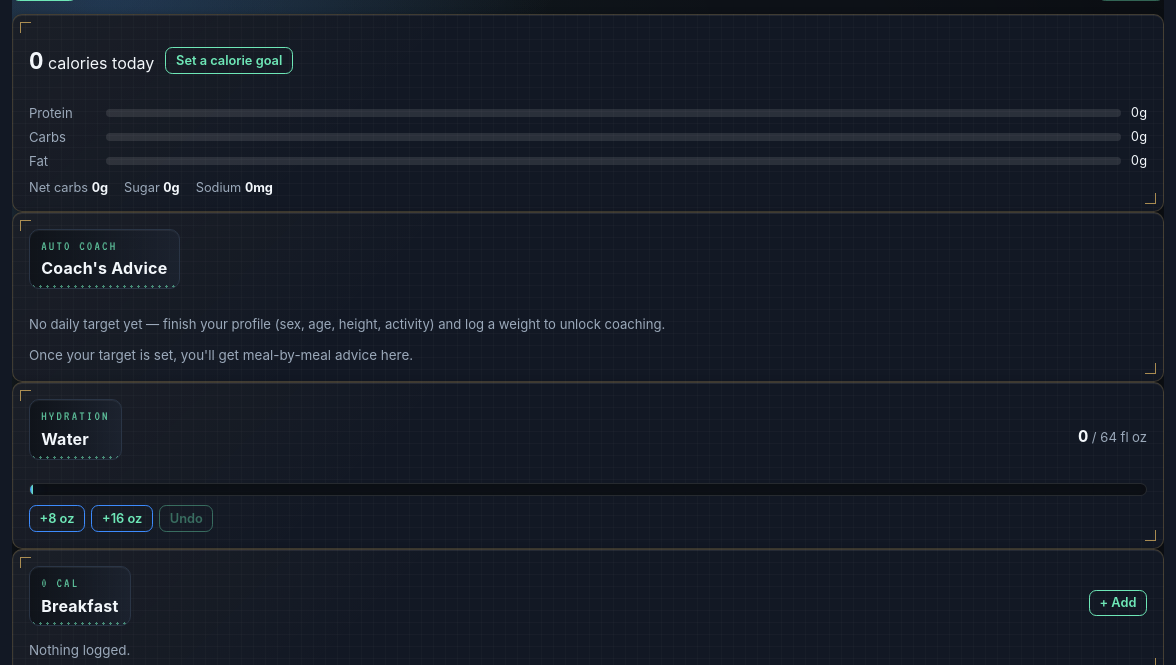
Test: NutritionDiary › logs a food to a meal and updates totals
The image size is (1176, 665).
Expected: the heading "Breakfast" is shown, [41, 596, 118, 616]
Click the button with aria-label "Add food to Breakfast": click(1118, 603) [1089, 590, 1147, 616]
(page scrolled)
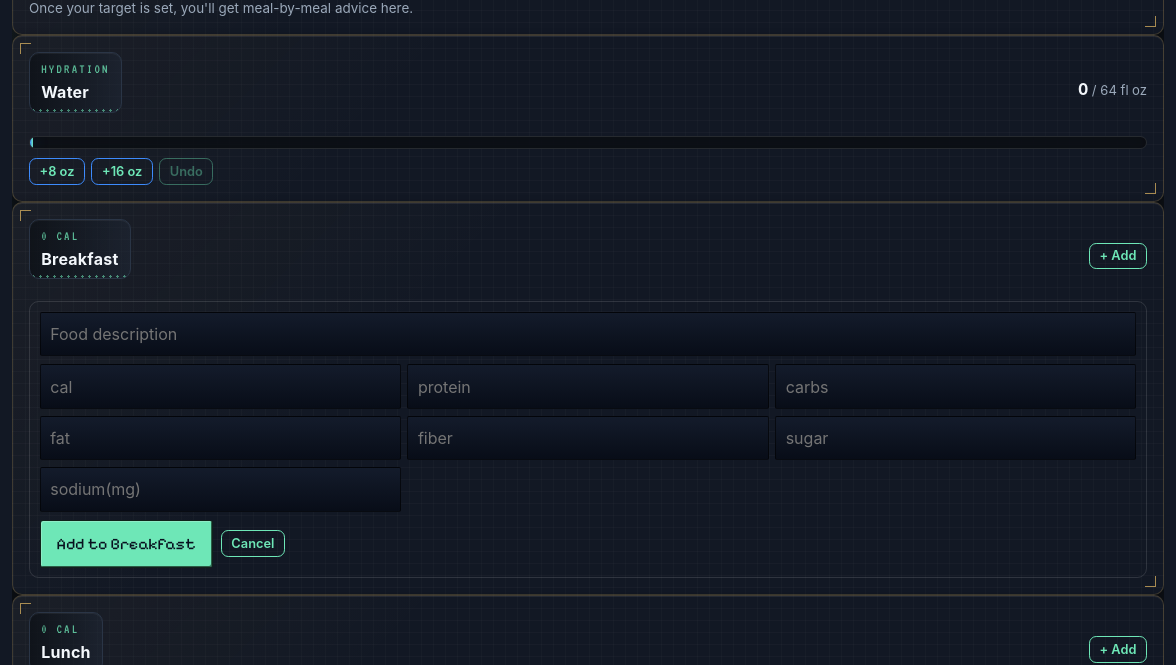
In the field with placeholder "Food description": (588, 334) [40, 312, 1136, 356], type "Oatmeal"
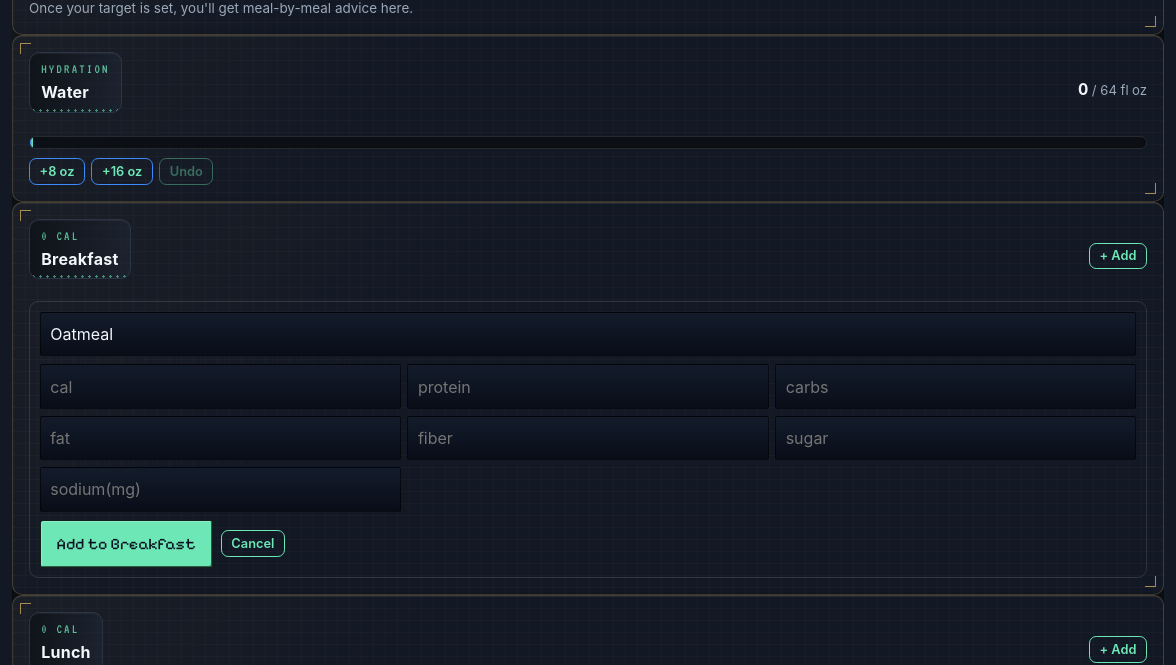
In the number field with placeholder "cal": (220, 387) [40, 364, 401, 409], type "350"
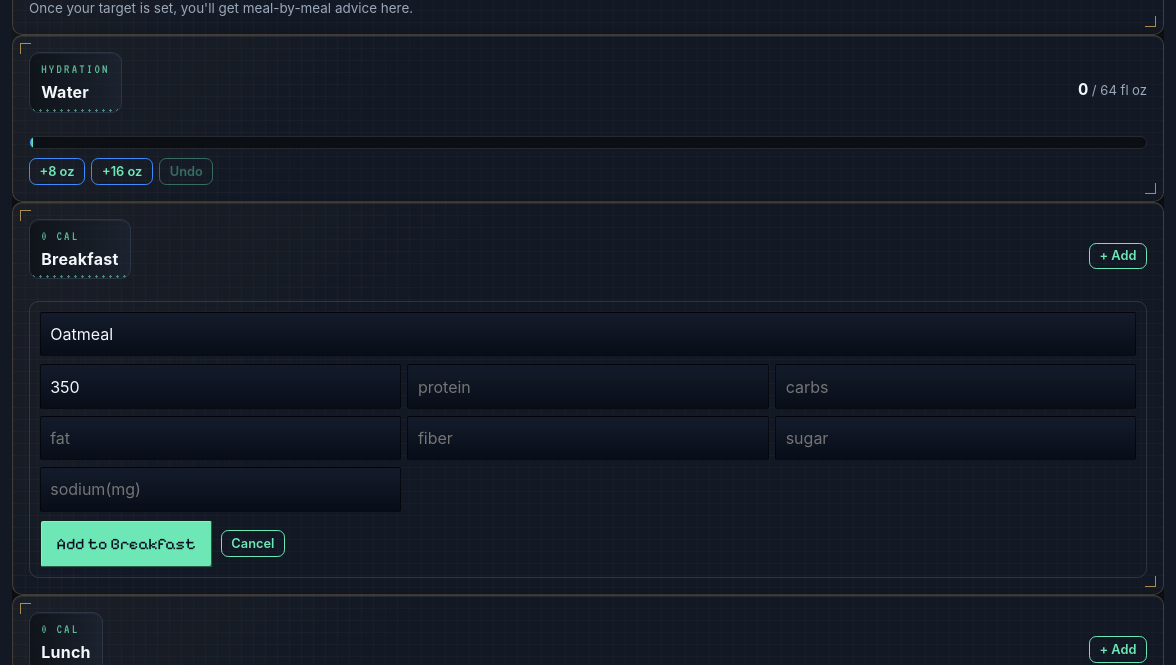
Click the button "Add to Breakfast": click(126, 544) [40, 520, 213, 568]
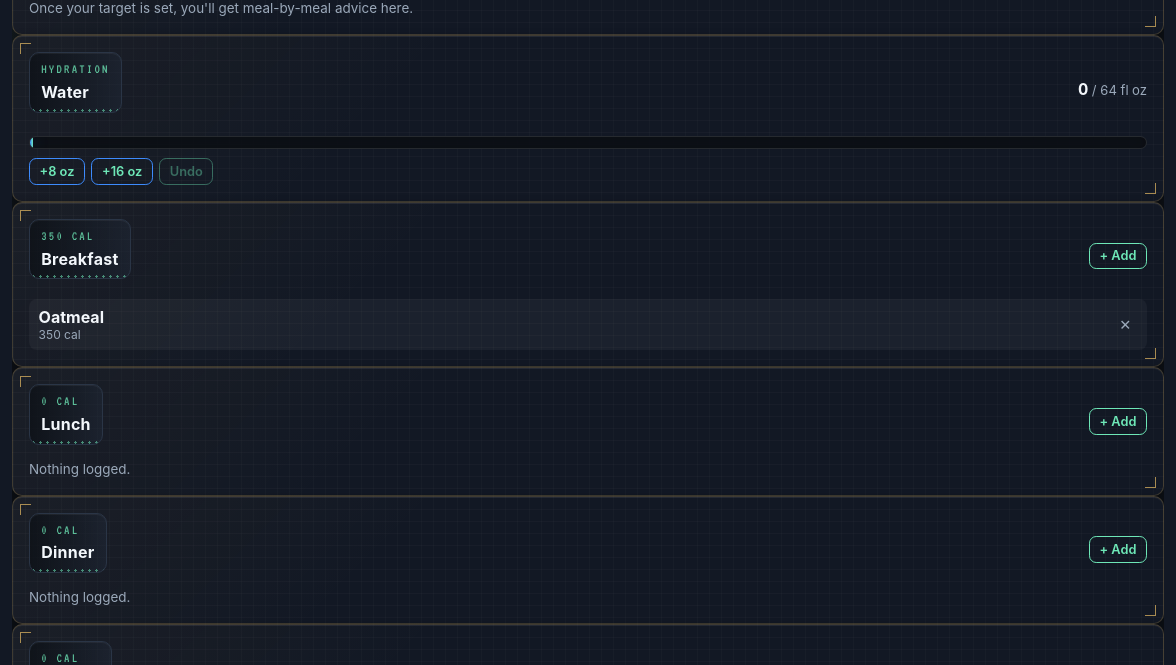
Now the text "Oatmeal" is shown, box [39, 307, 104, 327]
